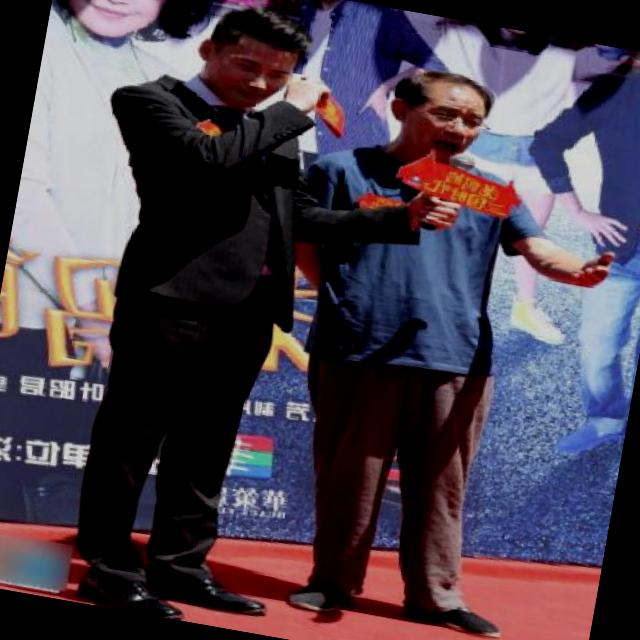Person: (2, 0, 385, 636), (256, 47, 640, 640)
